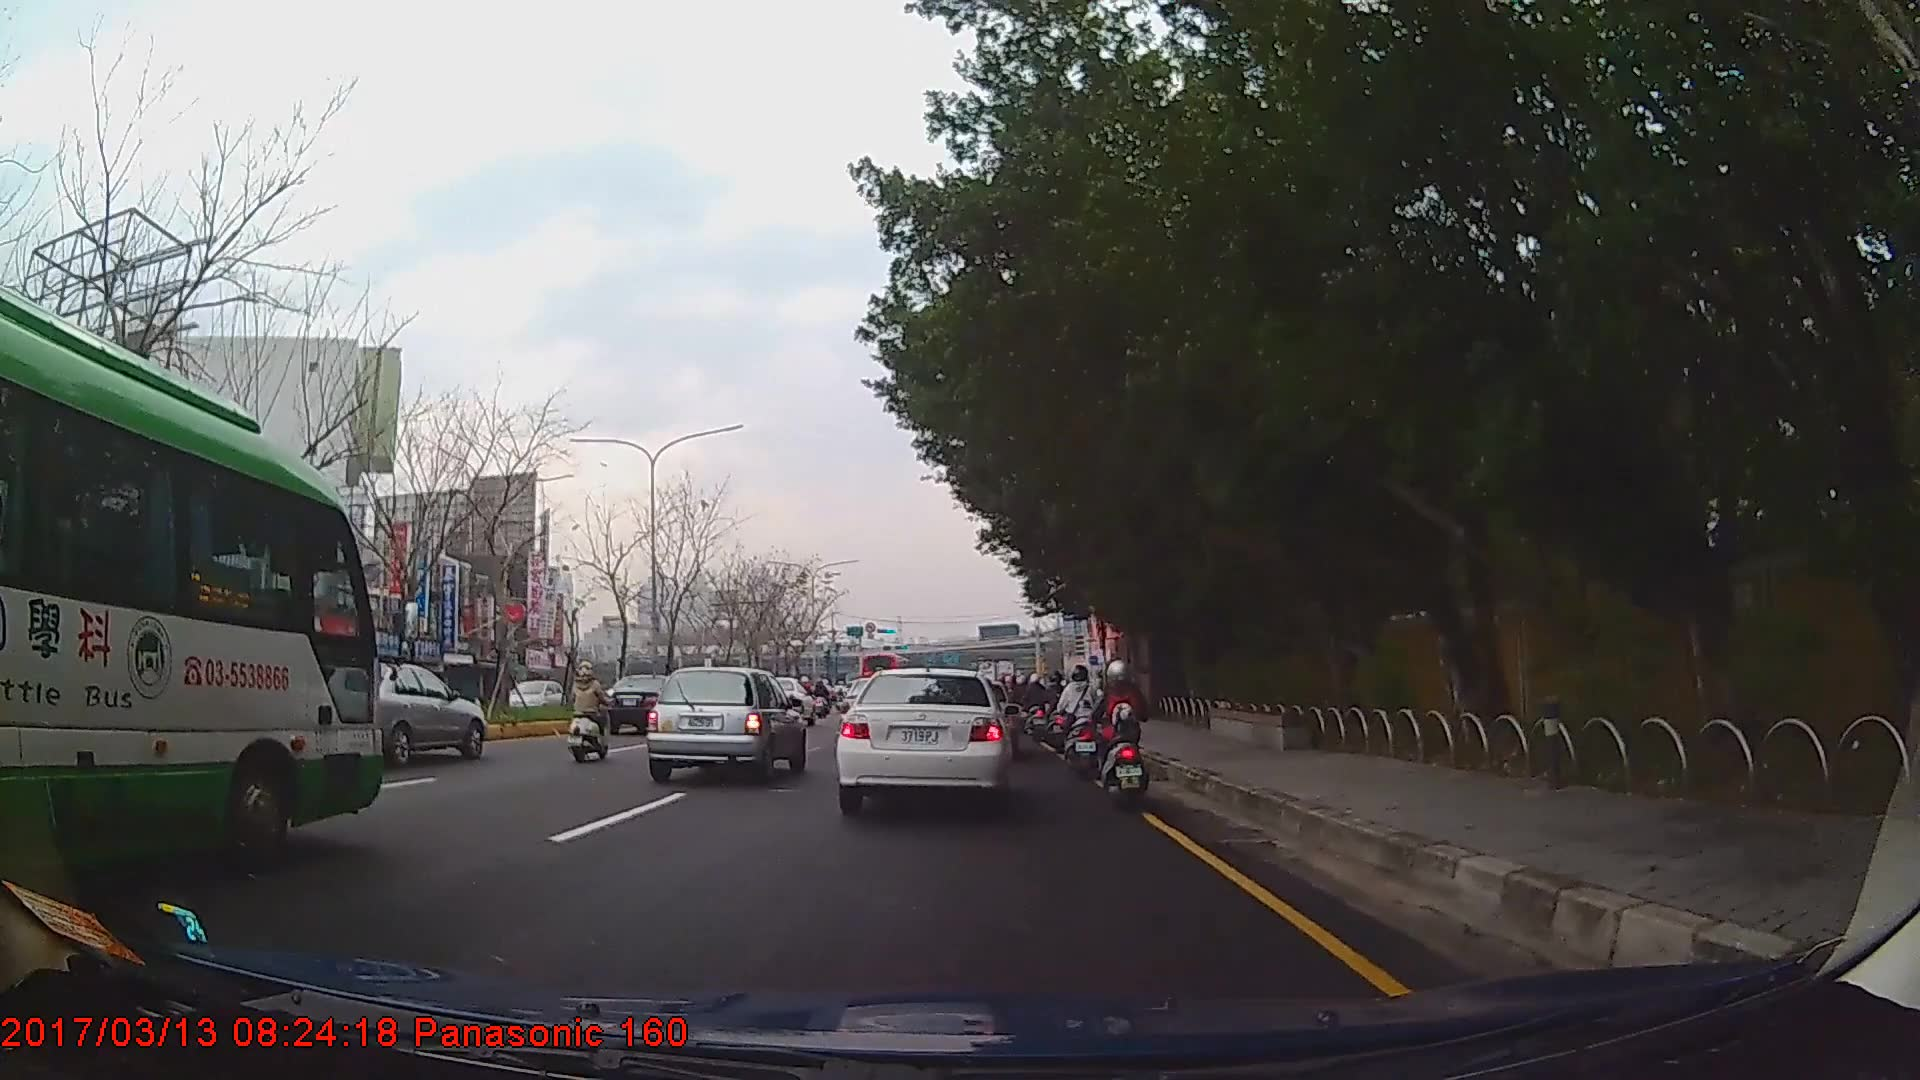rider: (1091, 657, 1153, 814), (1060, 665, 1105, 777), (571, 664, 615, 765), (1044, 672, 1070, 749)
vehicle: (0, 280, 387, 888), (832, 665, 1013, 817), (648, 664, 808, 783), (332, 658, 486, 762), (603, 669, 692, 734), (501, 675, 568, 715), (858, 650, 911, 697)
